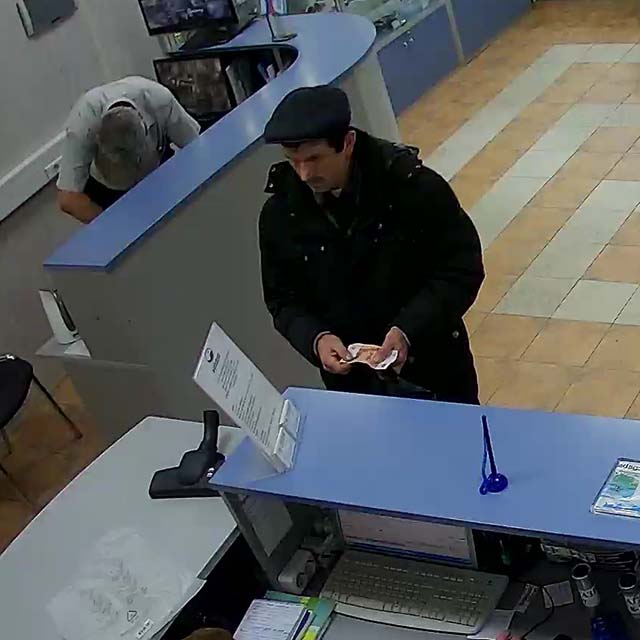banknotes: (342, 344, 399, 368)
